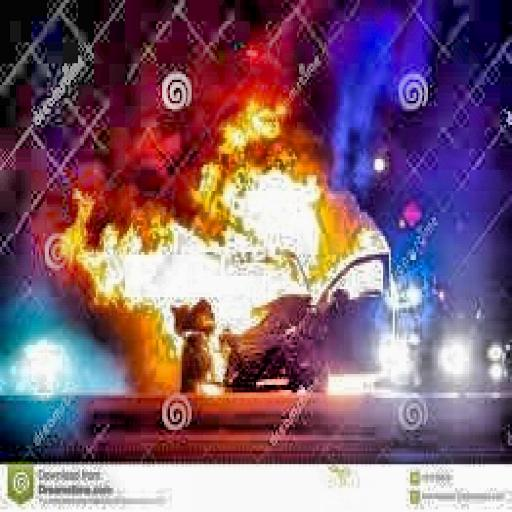fire: (60, 98, 391, 366)
